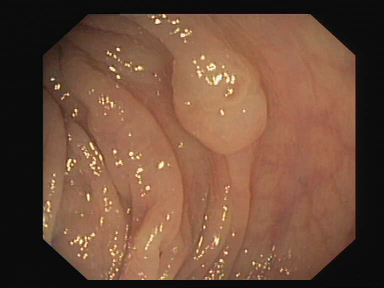polyp: (148, 24, 283, 168)
